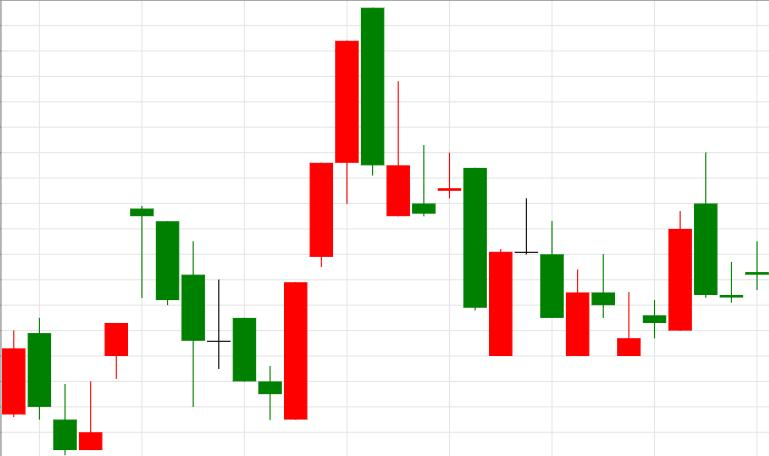bullish_engulfing_rise: (131, 205, 307, 420)
three_white_soldiers_rise: (131, 41, 359, 419)
